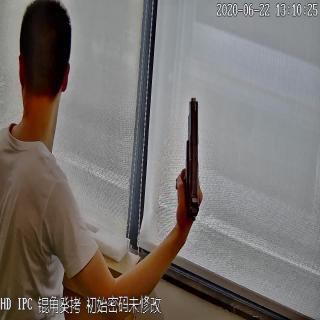gun: (172, 97, 205, 216)
